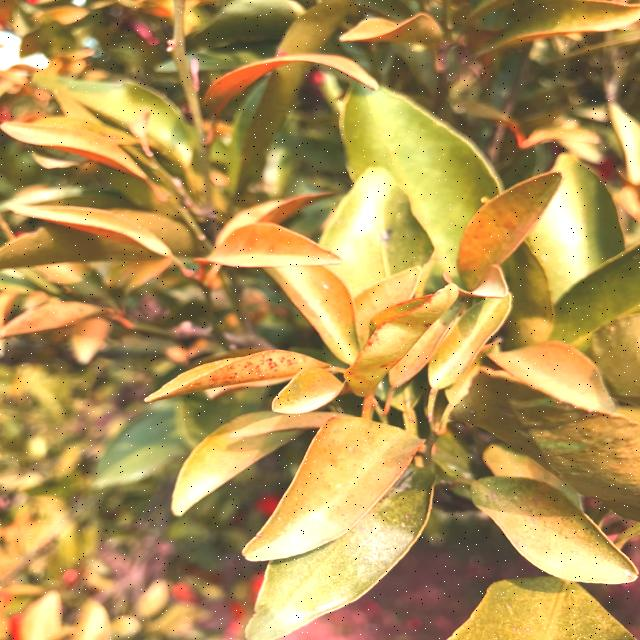melanose: (142, 354, 328, 408)
